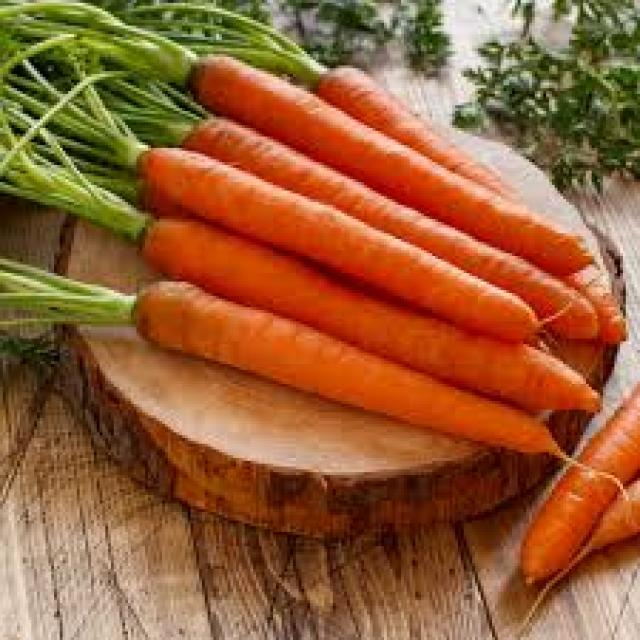Fresh_Carrot: (188, 58, 591, 301), (144, 219, 595, 410), (140, 149, 538, 339), (138, 281, 559, 457), (318, 68, 510, 196), (521, 466, 619, 583), (579, 384, 640, 484)
